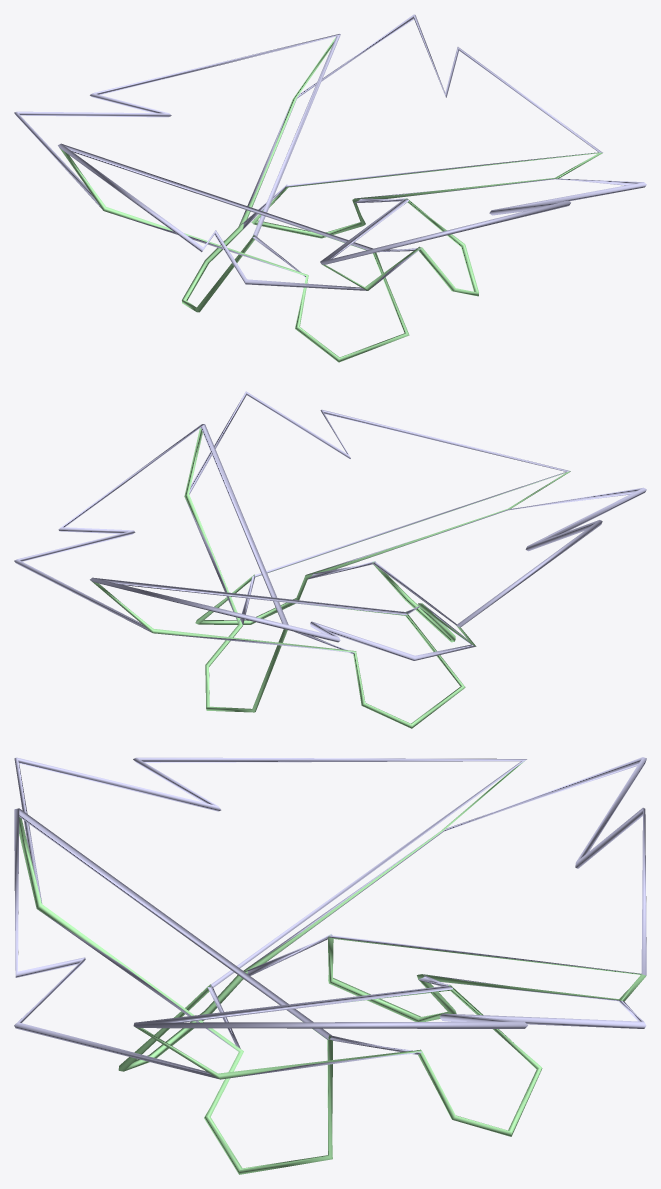
The model's file is MapC1.glb.
The picture shows the model from 3 angles, top to bottom: view 1: azimuth 30°, elevation 25°; view 2: azimuth 150°, elevation 25°; view 3: azimuth 270°, elevation 25°; orthographic projection. The views are drawn at different scales.
Parts seen in each view (by area): view 1: RegularMap_C; view 2: RegularMap_C; view 3: RegularMap_C.
Part boxes in pixels (left/top/right/bottom): RegularMap_C: left=14, top=14, right=646, bottom=362; RegularMap_C: left=14, top=391, right=646, bottom=728; RegularMap_C: left=14, top=757, right=646, bottom=1174.
Size of the model in its own units: 1.69 by 0.6171 by 1.69.
